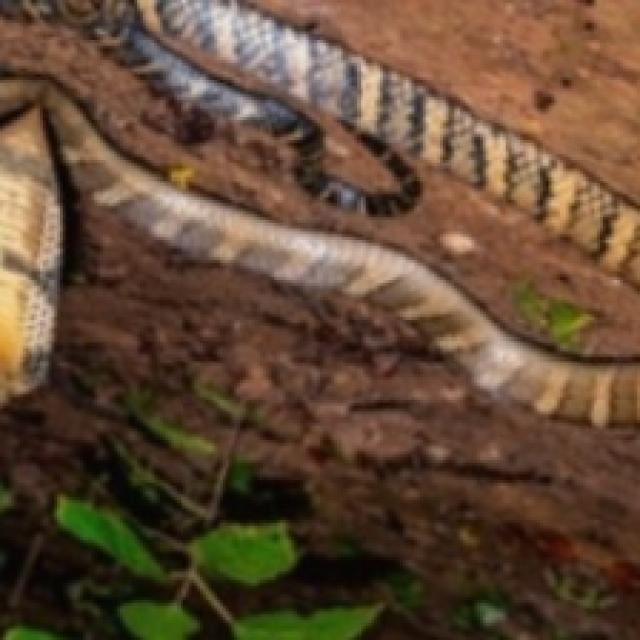king cobra: (0, 0, 637, 423)
